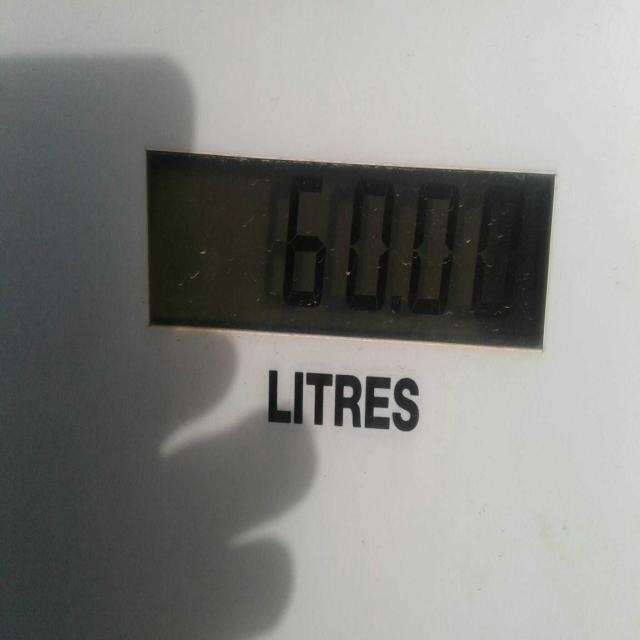.: (393, 286, 405, 320)
0: (406, 178, 462, 324), (469, 181, 517, 321), (344, 174, 391, 313)
6: (285, 168, 325, 306)
